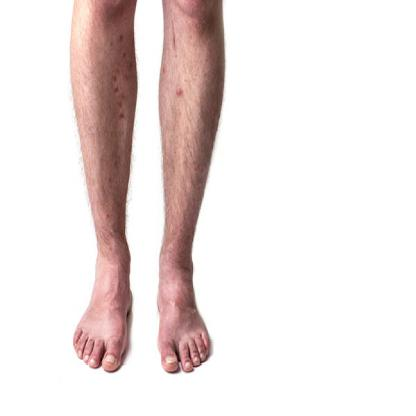Bed Bug: (110, 60, 135, 126), (174, 73, 189, 100), (160, 59, 169, 77), (116, 30, 127, 44), (105, 173, 115, 187), (110, 156, 120, 167), (103, 210, 112, 222), (118, 48, 130, 57), (107, 35, 114, 49), (107, 243, 114, 255)
